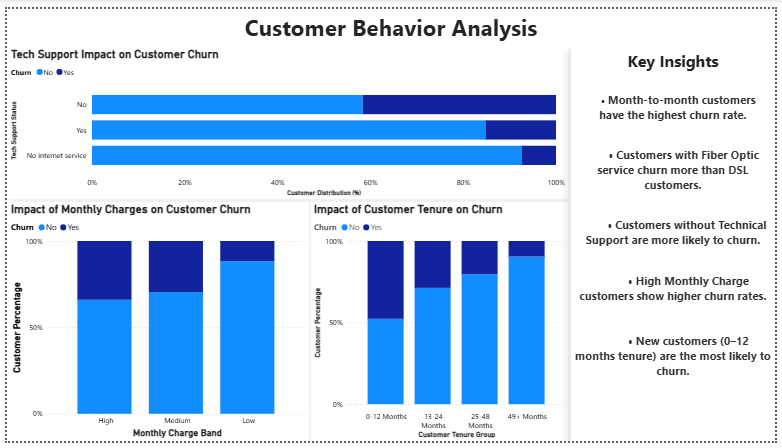

This screenshot's page, from the dashboard's own definition file:
{"tool":"powerbi","page":{"name":"Customer Behavior Analysis","canvas":[1280,720],"ordinal":1},"visuals":[{"type":"hundredPercentStackedBarChart","title":"Tech Support Impact on Customer Churn","fields":{"Y":["CountNonNull(cleaned_telco_churn.customerID)"],"Category":["cleaned_telco_churn.TechSupport"],"Series":["cleaned_telco_churn.Churn"]},"box":[1.7,63.3,933.3,253.3],"z":0},{"type":"hundredPercentStackedColumnChart","title":"Impact of Monthly Charges on Customer Churn","fields":{"Category":["cleaned_telco_churn.Charge Band1"],"Series":["cleaned_telco_churn.Churn"],"Y":["CountNonNull(cleaned_telco_churn.customerID)"]},"box":[1.7,321.7,501.7,398.3],"z":1000},{"type":"hundredPercentStackedColumnChart","title":"Impact of Customer Tenure on Churn","fields":{"Y":["CountNonNull(cleaned_telco_churn.customerID)"],"Series":["cleaned_telco_churn.Churn"],"Category":["cleaned_telco_churn.Tenure Group"]},"box":[506.7,321.7,428.3,398.3],"z":2000},{"type":"textbox","box":[940,63.3,340,656.7],"z":3000},{"type":"textbox","box":[0,0,1280.2,62.7],"z":5000}]}

Visuals, with their boxes in screenshot pixels (x1, y1, x2, y2), scaled from the page's 1280x720 canvas onto the 782x448 screenshot:
"Tech Support Impact on Customer Churn" hundredPercentStackedBarChart: bbox(1, 39, 571, 197)
"Impact of Monthly Charges on Customer Churn" hundredPercentStackedColumnChart: bbox(1, 200, 308, 447)
"Impact of Customer Tenure on Churn" hundredPercentStackedColumnChart: bbox(310, 200, 571, 447)
textbox: bbox(574, 39, 781, 447)
textbox: bbox(0, 0, 781, 39)
